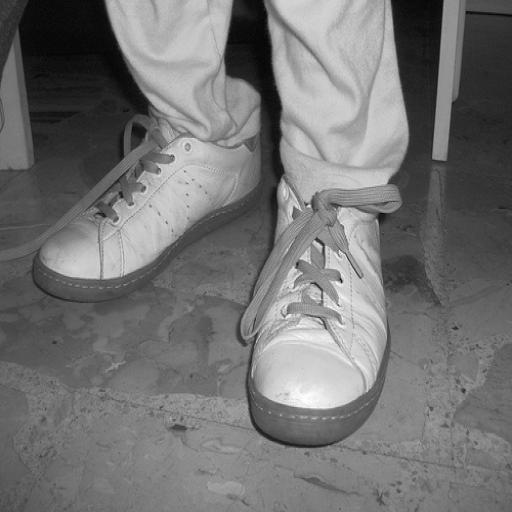shoe: (242, 176, 401, 445), (33, 116, 261, 302)
